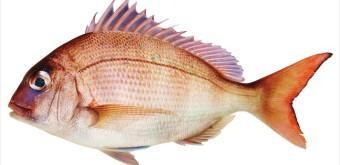fish: (8, 0, 331, 164)
